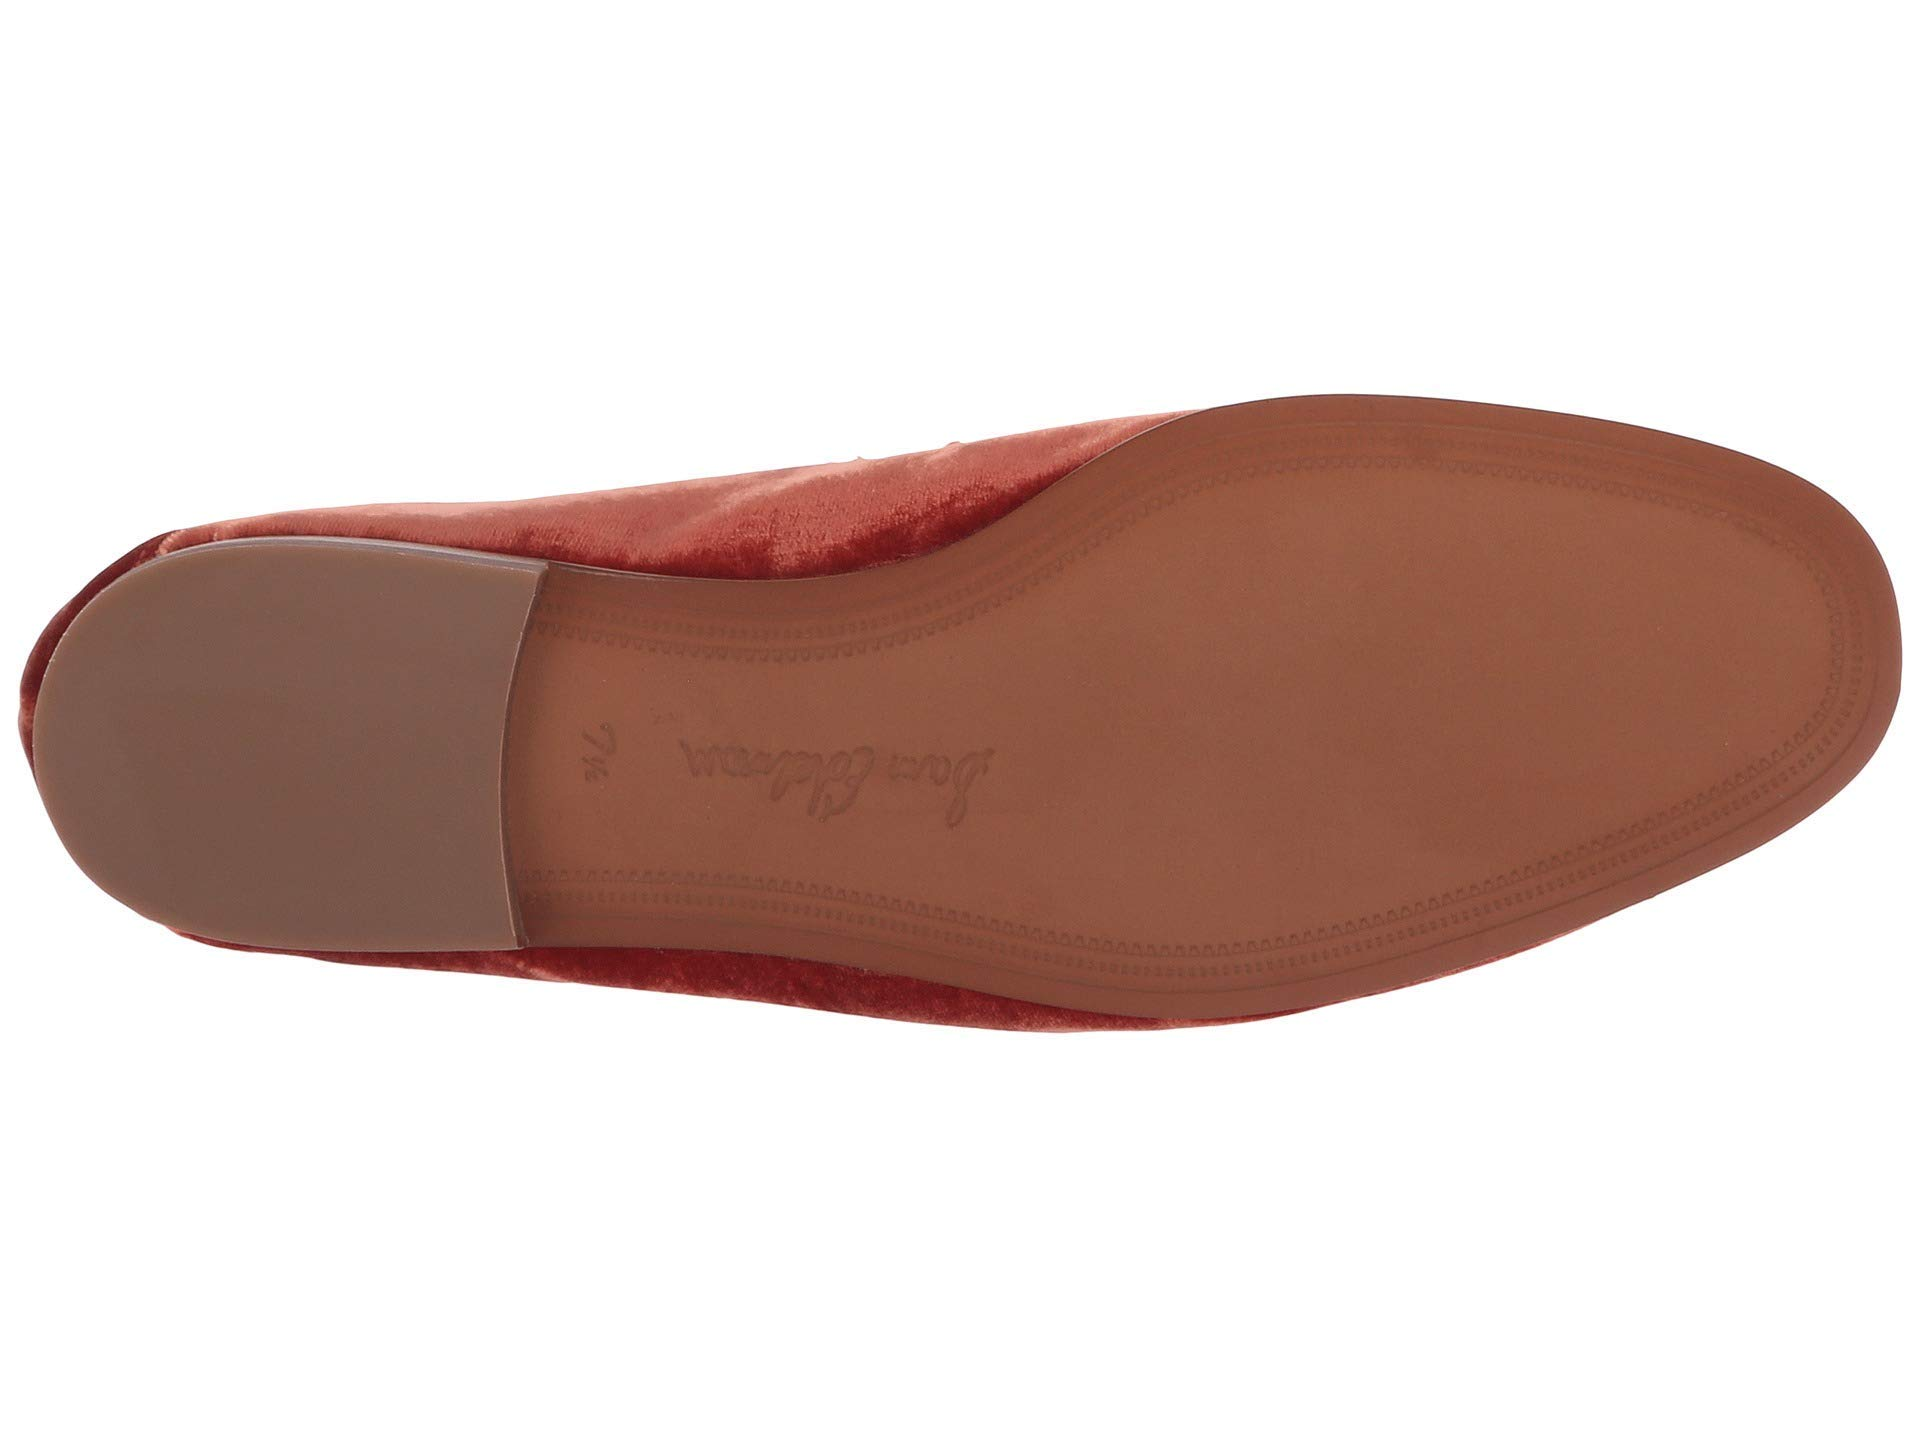circle: (1352, 850, 1545, 938), (1495, 434, 1678, 514), (1054, 492, 1202, 588), (1273, 430, 1460, 492), (1788, 554, 1857, 708)
quad: (1352, 850, 1545, 938), (1495, 434, 1678, 514)
